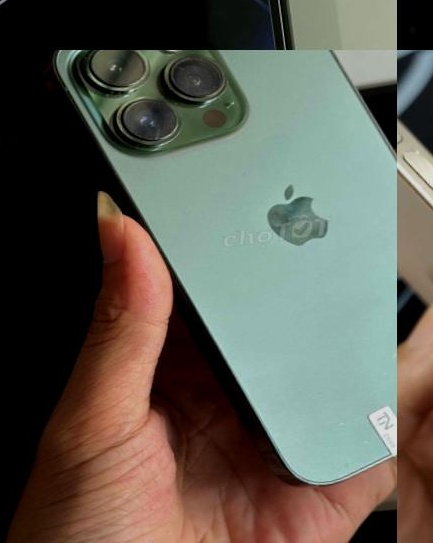scratch: (408, 168, 433, 401)
